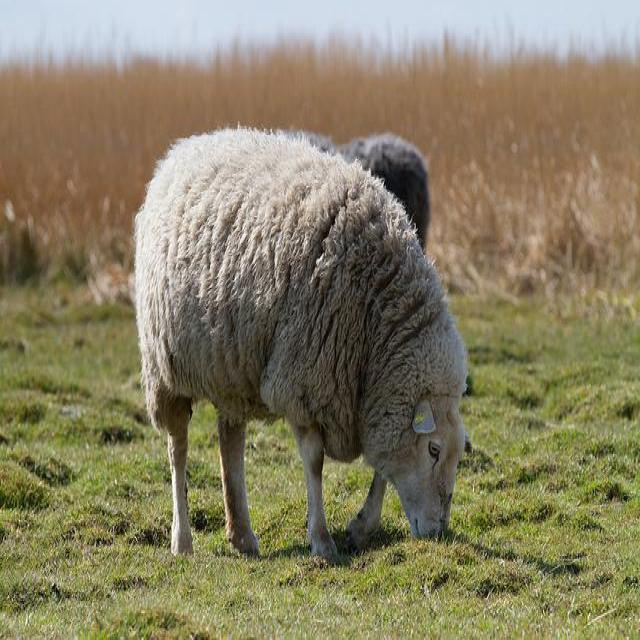Sheep: (133, 129, 469, 556), (252, 124, 436, 249)
